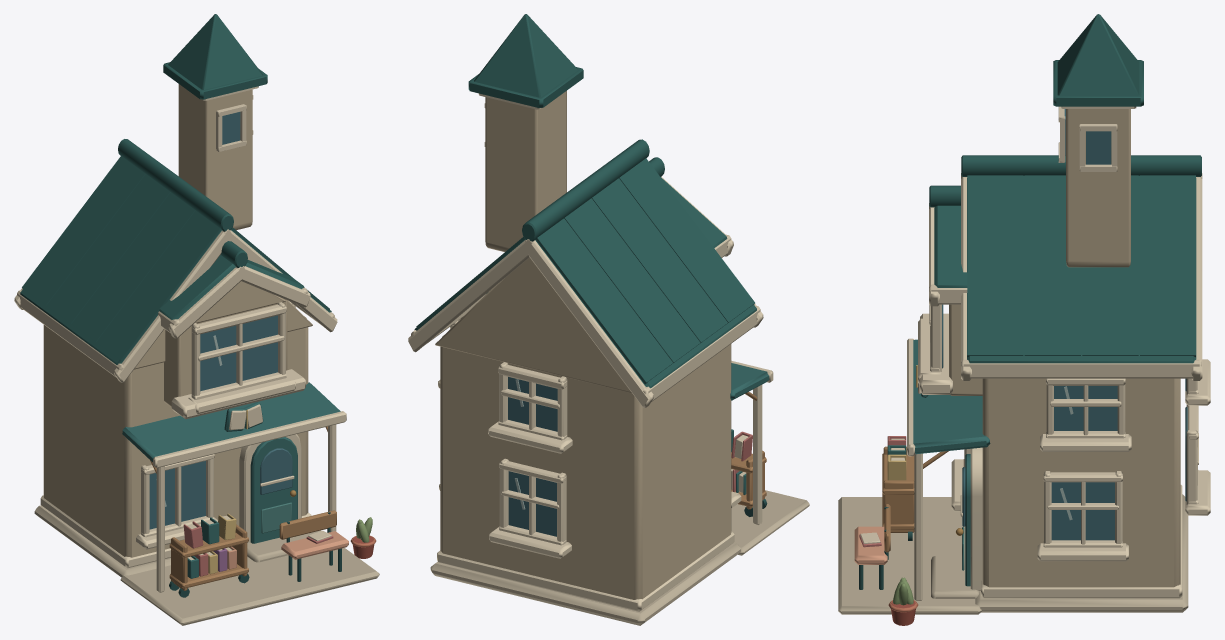
The model's file is bookshop_level_3.glb.
3 renders of one model, left to right at view 1: azimuth 30°, elevation 25°; view 2: azimuth 150°, elevation 25°; view 3: azimuth 270°, elevation 25°, orthographic. The views are drawn at different scales.
Parts seen in each view (by area): view 1: bookshop_level_3_compact_variant; view 2: bookshop_level_3_compact_variant; view 3: bookshop_level_3_compact_variant.
Part boxes in pixels (box(x1,y1,x2,y2)): bookshop_level_3_compact_variant: box(14, 14, 379, 625); bookshop_level_3_compact_variant: box(408, 14, 809, 625); bookshop_level_3_compact_variant: box(838, 14, 1210, 625).
Bounding box in the file's own units: 3.66 × 7.45 × 4.4.
